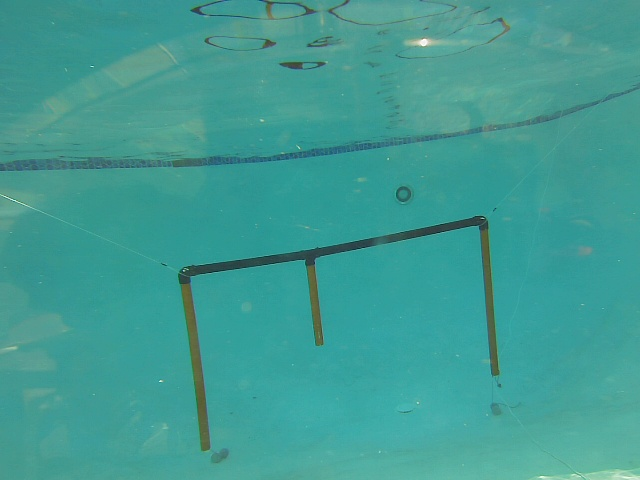Gate: (175, 278, 213, 453), (477, 224, 501, 375), (301, 258, 325, 346)
